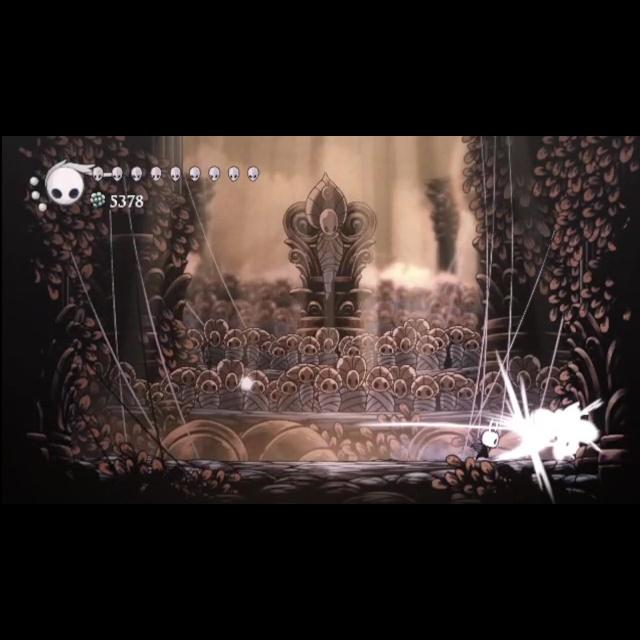EnemyDamaged: (542, 398, 592, 457)
Player: (470, 417, 506, 463)
